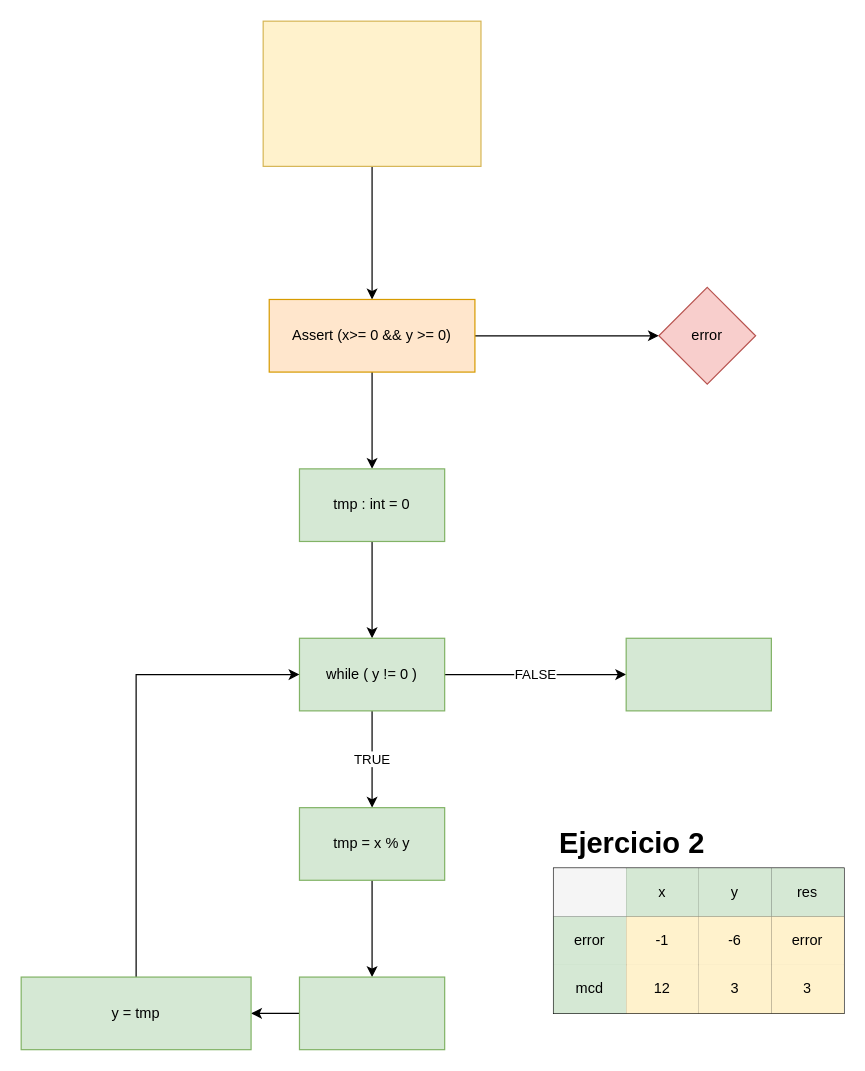
The diagram is 865 pixels wide and 1071 high, and some of its shapes have lost their labels. Each missing label, with the centre of its shape:
mcd ( x: int, y:int ) -> int:: (371,93)
return x: (698,674)
x = y: (371,1013)
